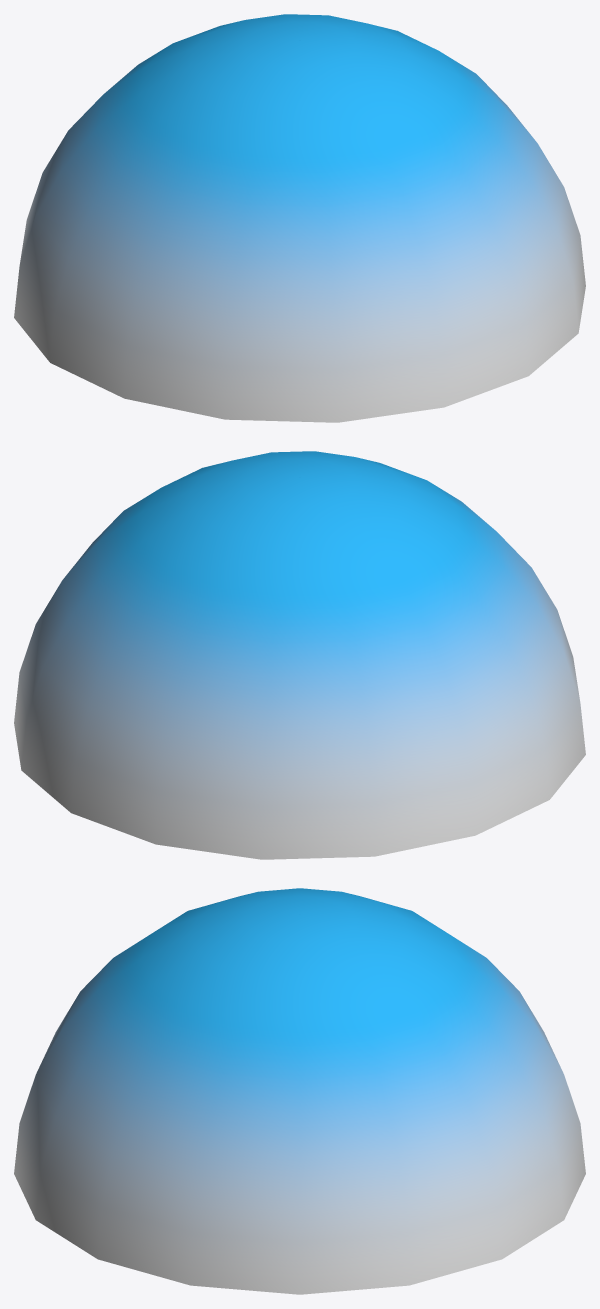
File: skybox.glb
3 views of the same model, one above another, from view 1: azimuth 30°, elevation 25°; view 2: azimuth 150°, elevation 25°; view 3: azimuth 270°, elevation 25° (orthographic).
Visible parts, largest first — view 1: Sphere; view 2: Sphere; view 3: Sphere.
Boxes of the visible parts, x1,y1,x2,y2 form: Sphere: (14, 14, 585, 422); Sphere: (14, 451, 585, 859); Sphere: (14, 888, 585, 1294).
Bounding box in the file's own units: 400 × 200 × 400.
1 material, 1 textured.
